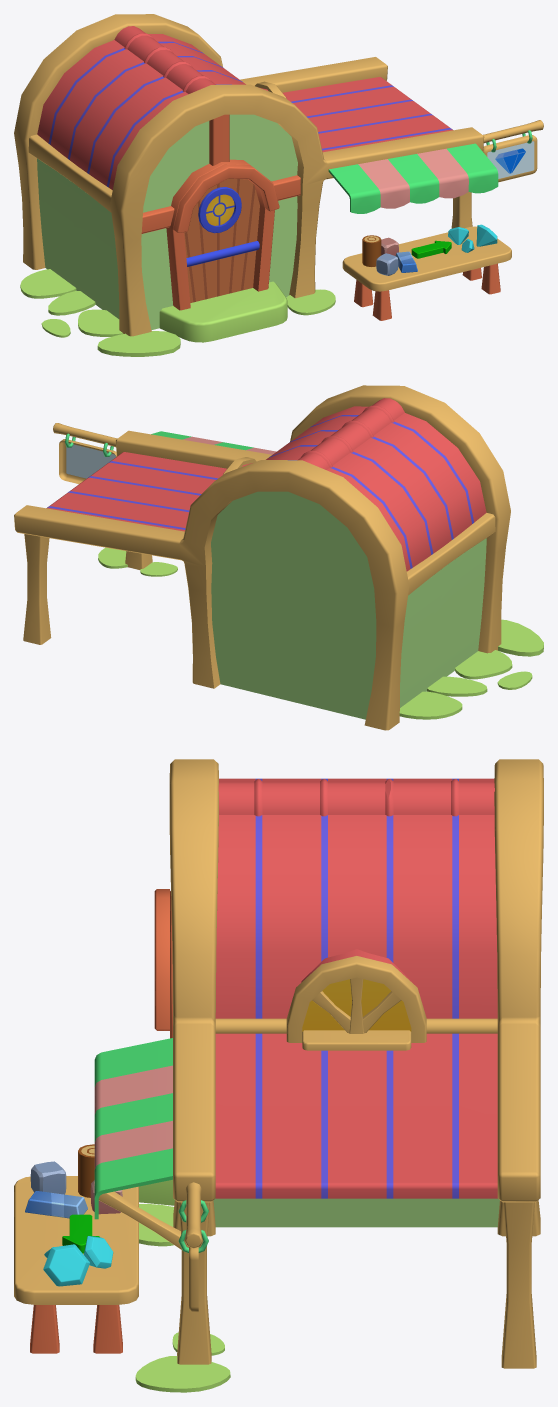
The model's file is Shop.fbx.
3 views of the same model, one above another, from view 1: azimuth 30°, elevation 25°; view 2: azimuth 150°, elevation 25°; view 3: azimuth 270°, elevation 25° (orthographic). The views are drawn at different scales.
Visible parts, largest first — view 1: Cube.055; view 2: Cube.055; view 3: Cube.055.
Part boxes in pixels (left/top/right/bottom): Cube.055: left=14, top=14, right=543, bottom=356; Cube.055: left=14, top=385, right=543, bottom=730; Cube.055: left=14, top=759, right=543, bottom=1392.
Bounding box in the file's own units: 961 × 438 × 555.
